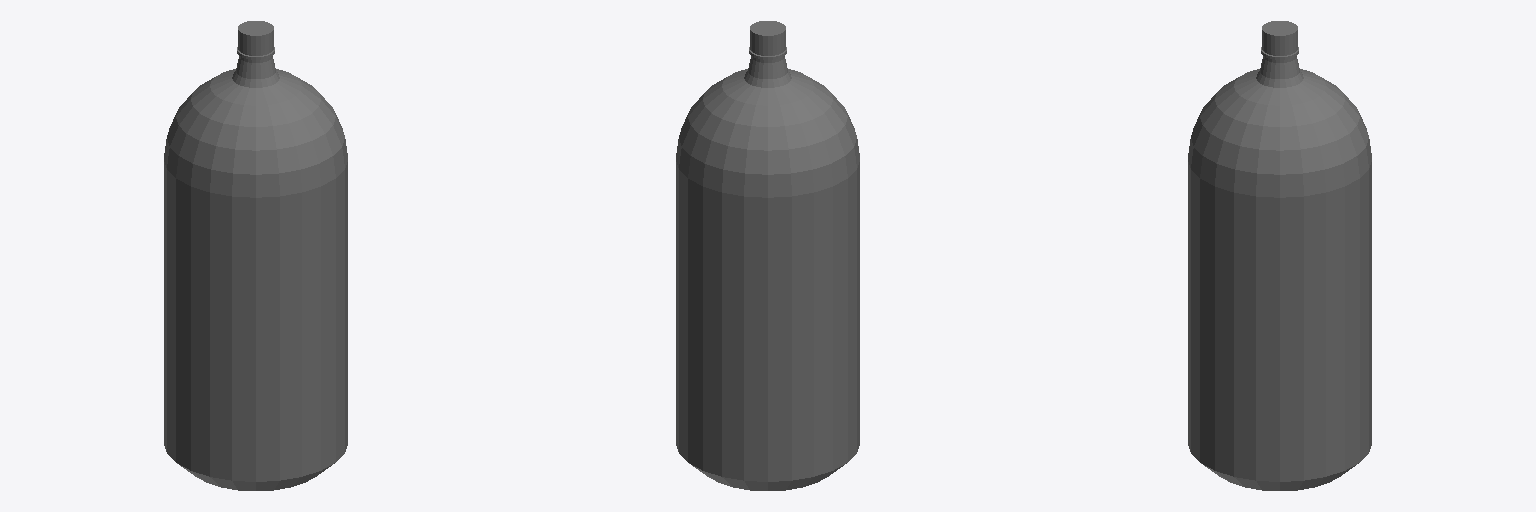
robot.urdf — object:
<?xml version="1.0"?>
<robot name="object">
  <link name="object">
    <visual>
      <origin xyz="0 0 0"/>
      <geometry>
        <mesh
          filename="../../mesh/oakink_virtual/cylinder_bottle_s112.stl" />
      </geometry>
      <material name="mat">
        <color rgba="0.5 0.5 0.5 1"/>
      </material>
    </visual>

    <collision>
      <origin xyz="0 0 0"/>
      <geometry>
        <mesh
          filename="../../mesh/oakink_virtual/cylinder_bottle_s112.stl" />
      </geometry>
    </collision>
  </link>
</robot>

--- What the picture shows (computed from the rendered views, not written in the file) ---
3 views of the same robot in one strip: view 1: azimuth 30°, elevation 25°; view 2: azimuth 150°, elevation 25°; view 3: azimuth 270°, elevation 25° (orthographic).
Model object with 1 links and 0 joints (none), rooted at object, posed all joints at 0.
Visible links, largest first — view 1: object; view 2: object; view 3: object.
Link boxes in pixels (x1,y1,x2,y2): object: [164, 21, 347, 490]; object: [676, 21, 859, 490]; object: [1188, 21, 1371, 490].
Bounding box of the posed robot: 0.0928 × 0.0928 × 0.2406 m (x, y, z).
1 mesh visuals loaded from 1 distinct referenced files (1 binary STL).